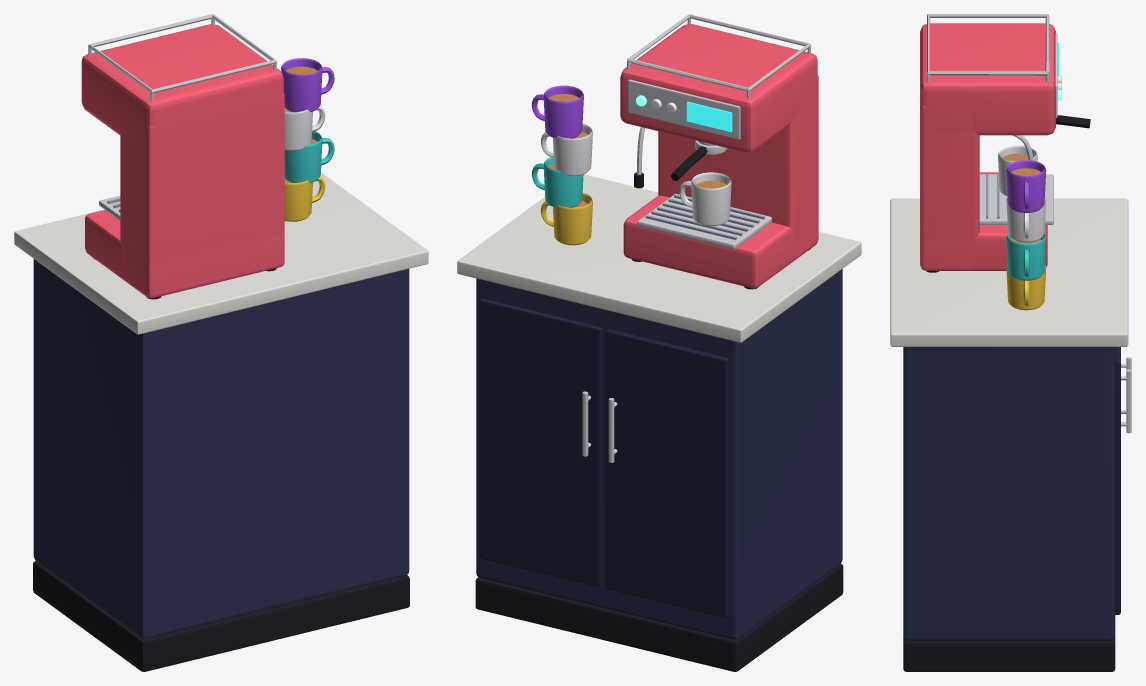
Rendered from coffee_machine.glb.
3 views of the same model, side by side, from view 1: azimuth 30°, elevation 25°; view 2: azimuth 150°, elevation 25°; view 3: azimuth 270°, elevation 25° (orthographic). The views are drawn at different scales.
Parts seen in each view (by area): view 1: Body; view 2: Body; view 3: Body.
Part boxes in pixels (x1=…): Body: x1=14, y1=14, x2=428, y2=671; Body: x1=457, y1=14, x2=861, y2=671; Body: x1=890, y1=14, x2=1131, y2=671.
Bounding box in the file's own units: 0.76 × 1.41 × 0.568.
